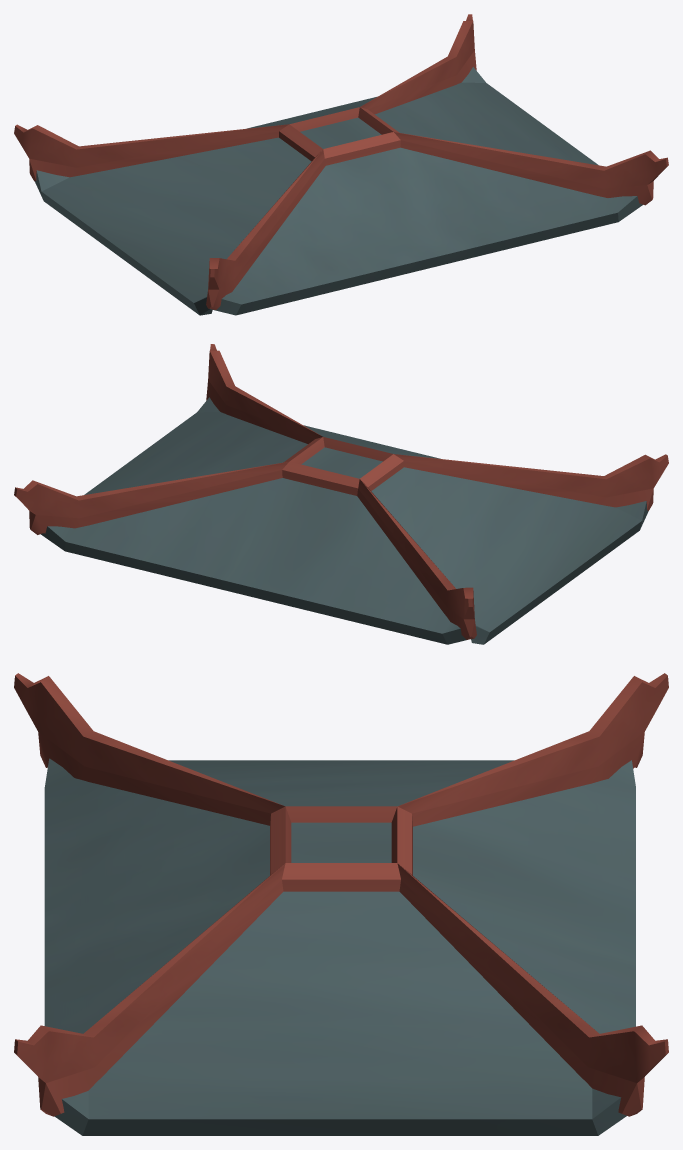
File: roof_blacksmith.fbx
3 renders of one model, top to bottom at view 1: azimuth 30°, elevation 25°; view 2: azimuth 150°, elevation 25°; view 3: azimuth 270°, elevation 25°, orthographic. The views are drawn at different scales.
Visible parts, largest first — view 1: roof_blacksmith2; view 2: roof_blacksmith2; view 3: roof_blacksmith2.
Part boxes in pixels (x1,y1,x2,y2): roof_blacksmith2: (14,14,668,315); roof_blacksmith2: (14,344,668,644); roof_blacksmith2: (14,673,668,1135).
Size of the model in its own units: 5.27 by 0.8517 by 3.95.
